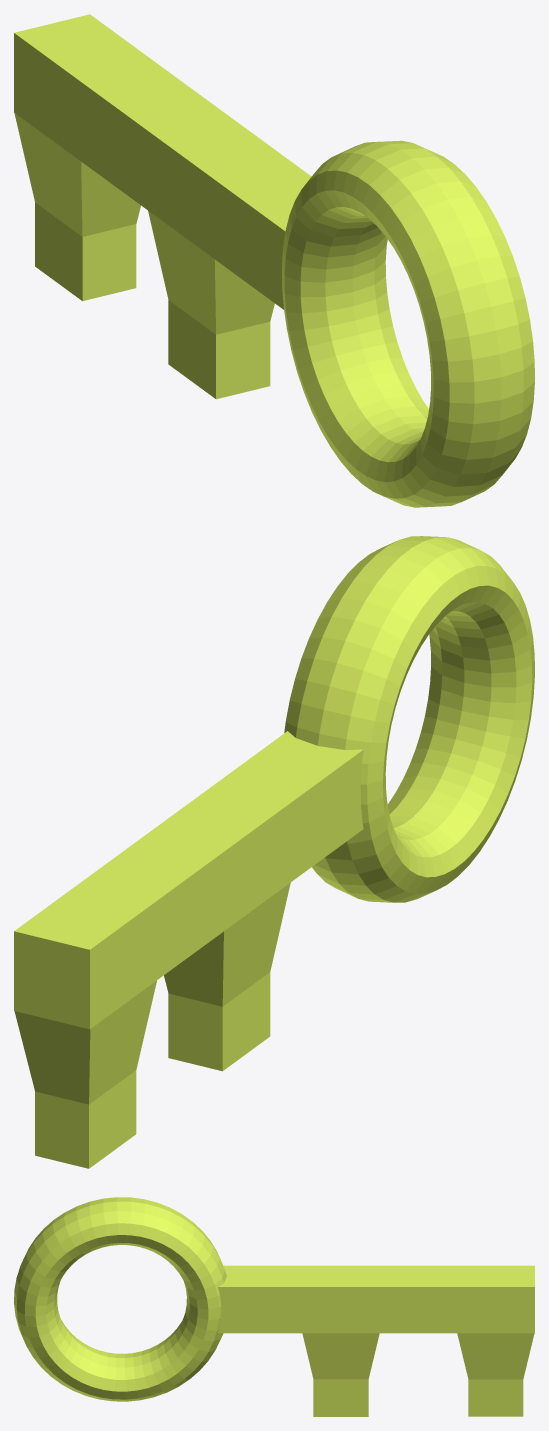
Rendered from Key.fbx.
3 renders of one model, top to bottom at view 1: azimuth 30°, elevation 25°; view 2: azimuth 150°, elevation 25°; view 3: azimuth 270°, elevation 25°, orthographic. The views are drawn at different scales.
Parts seen in each view (by area): view 1: Key; view 2: Key; view 3: Key.
Part boxes in pixels (x1=…): Key: x1=14, y1=14, x2=534, y2=507; Key: x1=14, y1=536, x2=534, y2=1168; Key: x1=14, y1=1197, x2=534, y2=1416.
Bounding box in the file's own units: 45.69 × 159 × 361.
